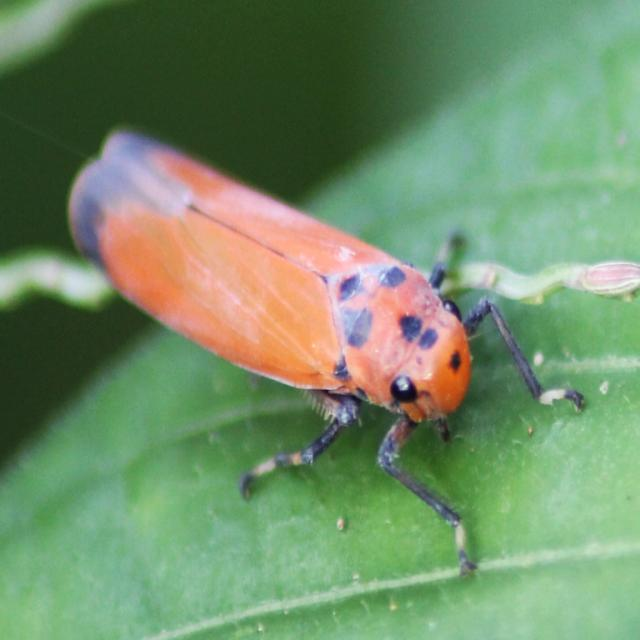Yechan: (53, 115, 554, 516)
